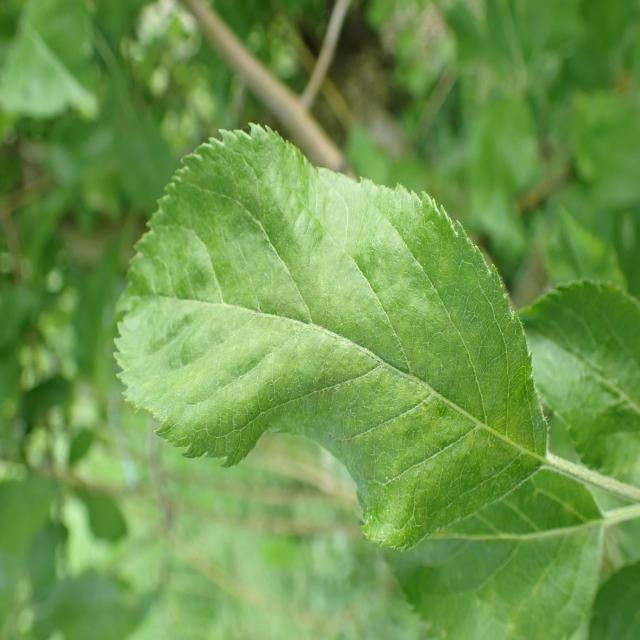scab: (130, 147, 540, 522)
